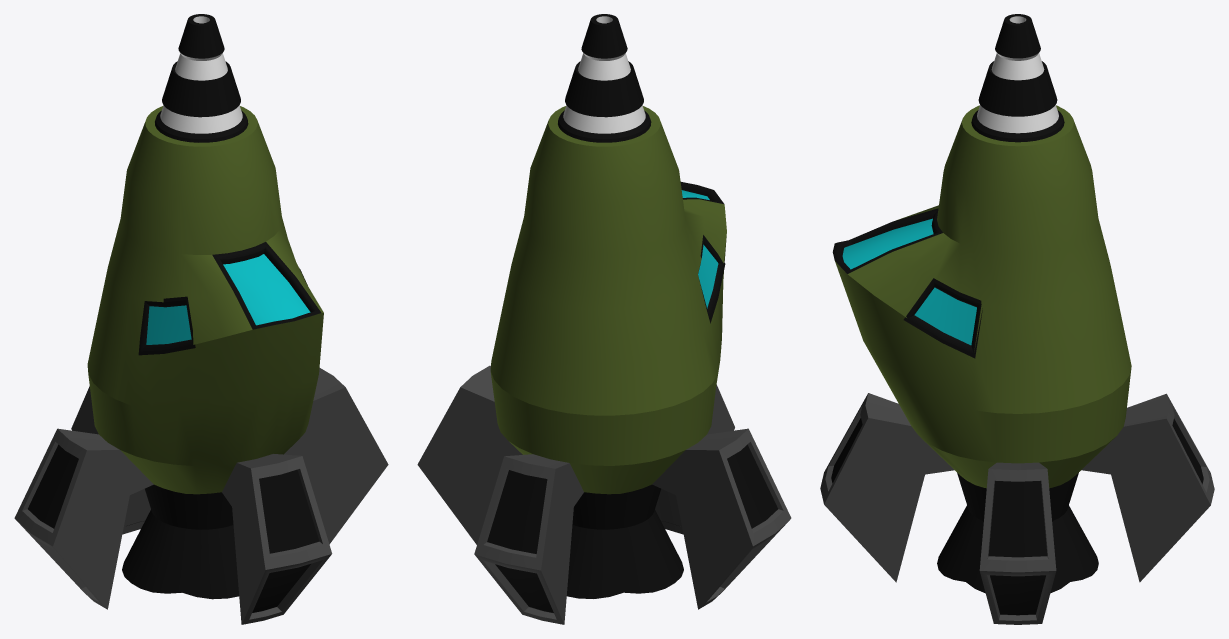
The model's file is Rocket 3.fbx.
3 renders of one model, left to right at view 1: azimuth 30°, elevation 25°; view 2: azimuth 150°, elevation 25°; view 3: azimuth 270°, elevation 25°, orthographic.
Visible parts, largest first — view 1: Rocket 3; view 2: Rocket 3; view 3: Rocket 3.
Part boxes in pixels (x1=…): Rocket 3: x1=14, y1=14, x2=388, y2=624; Rocket 3: x1=417, y1=14, x2=791, y2=624; Rocket 3: x1=820, y1=14, x2=1214, y2=624.
Bounding box in the file's own units: 346 × 536 × 347.
